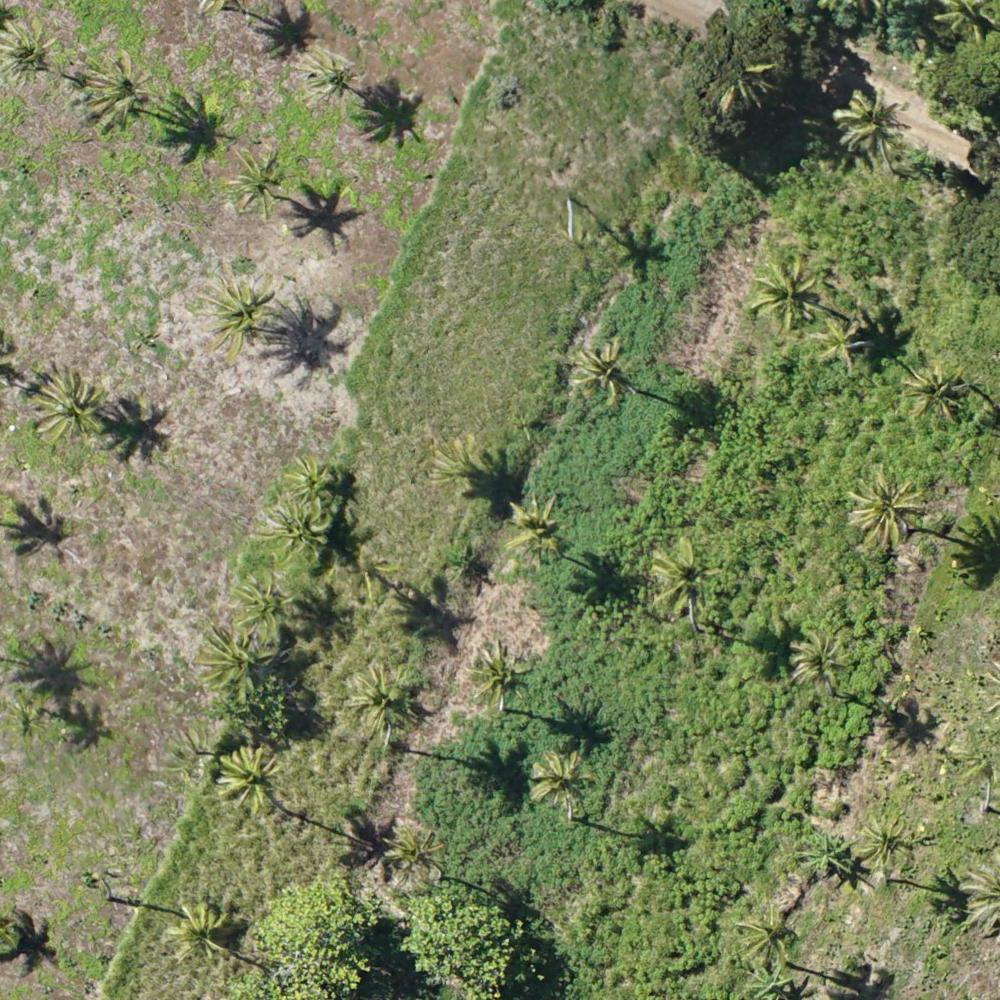Palm: (197, 280, 274, 362), (32, 372, 115, 447), (846, 467, 923, 545), (83, 49, 151, 132), (348, 663, 420, 741), (216, 743, 287, 816), (503, 495, 574, 565), (261, 498, 331, 569), (197, 626, 264, 698), (755, 259, 823, 327), (228, 147, 296, 215), (164, 902, 237, 965), (463, 642, 531, 708), (904, 360, 970, 427), (571, 339, 637, 406), (530, 749, 598, 814), (834, 90, 898, 156), (648, 541, 714, 605), (731, 904, 798, 963), (293, 39, 357, 100), (788, 628, 850, 690), (1, 22, 55, 92), (384, 817, 442, 881), (234, 574, 292, 635), (282, 456, 340, 508), (811, 321, 866, 371), (862, 818, 915, 869)
